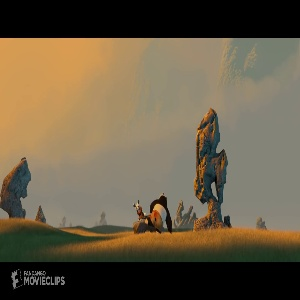po: (146, 192, 176, 234)
shifu: (132, 199, 147, 222)
